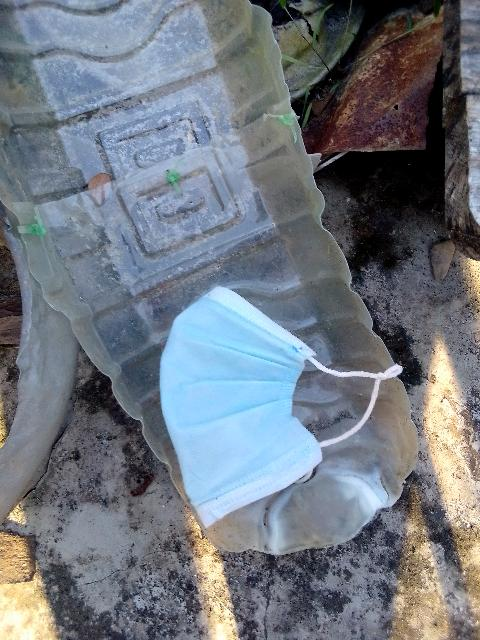mask: (151, 266, 415, 538)
